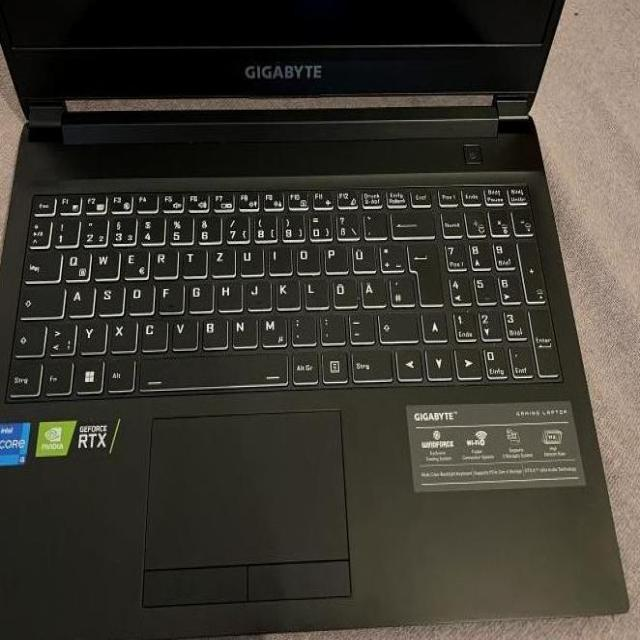0: (307, 208, 331, 240)
1: (51, 213, 78, 245)
2: (80, 213, 108, 244)
3: (109, 211, 136, 244)
4: (136, 210, 164, 243)
5: (166, 211, 192, 242)
6: (195, 210, 220, 243)
7: (223, 210, 248, 240)
8: (252, 209, 275, 240)
9: (279, 209, 303, 239)
a: (64, 280, 93, 315)
accent: (361, 208, 385, 237)
ae: (359, 273, 385, 306)
alt-left: (105, 351, 134, 390)
altgr-right: (289, 347, 316, 383)
b: (199, 314, 226, 347)
c: (139, 315, 166, 348)
caret: (24, 214, 49, 245)
comma: (288, 311, 314, 343)
d: (124, 279, 152, 312)
del: (388, 205, 433, 236)
e: (120, 244, 147, 277)
enter: (404, 236, 439, 302)
f: (154, 279, 182, 311)
g: (185, 279, 211, 310)
h: (214, 278, 240, 309)
hash: (387, 270, 414, 305)
i: (266, 242, 290, 273)
j: (243, 275, 269, 308)
k: (274, 276, 298, 307)
keyboard: (0, 172, 566, 403)
l: (302, 275, 327, 307)
less: (45, 316, 75, 355)
m: (258, 312, 285, 345)
minus: (346, 308, 371, 342)
n: (229, 313, 255, 346)
o: (294, 242, 318, 273)
oe: (330, 273, 355, 306)
p: (322, 241, 346, 271)
plus: (377, 239, 403, 271)
point: (317, 311, 343, 342)
q: (59, 245, 89, 280)
r: (150, 245, 176, 276)
s: (94, 279, 122, 314)
shift-left: (10, 317, 45, 355)
shift-lock: (16, 280, 63, 316)
shift-right: (374, 307, 416, 341)
space: (137, 350, 285, 386)
ss: (334, 208, 357, 239)
strg-left: (5, 358, 41, 398)
strg-right: (348, 345, 392, 380)
t: (179, 244, 205, 275)
tab: (21, 245, 61, 279)
u: (237, 243, 262, 274)
ue: (349, 240, 374, 271)
v: (169, 314, 196, 349)
w: (90, 244, 118, 277)
x: (108, 315, 136, 350)
y: (76, 315, 105, 352)
z: (208, 244, 234, 275)
